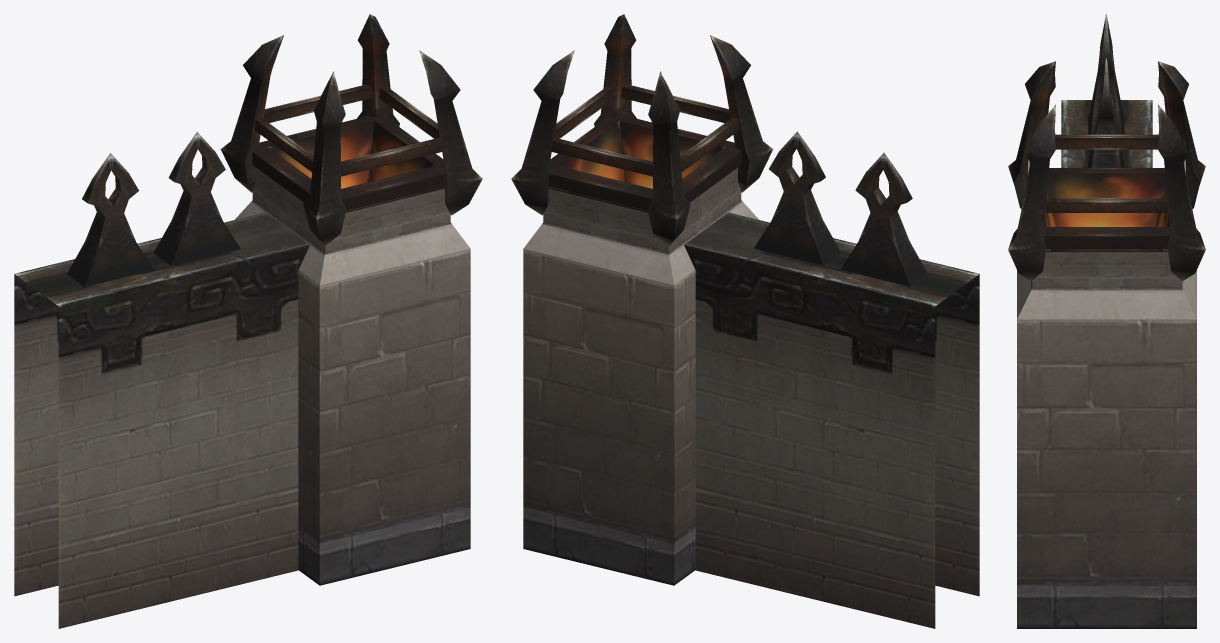
The model's file is zc_zhanchang001_huopenweilan01_55_58_7948out.fbx.
3 views of the same model, side by side, from view 1: azimuth 30°, elevation 25°; view 2: azimuth 150°, elevation 25°; view 3: azimuth 270°, elevation 25° (orthographic). The views are drawn at different scales.
Visible parts, largest first — view 1: zc_zhanchang001_huopenweilan01; view 2: zc_zhanchang001_huopenweilan01; view 3: zc_zhanchang001_huopenweilan01.
Part boxes in pixels (x1,y1,x2,y2): zc_zhanchang001_huopenweilan01: (14,14,482,628); zc_zhanchang001_huopenweilan01: (511,14,979,628); zc_zhanchang001_huopenweilan01: (1008,14,1205,628).
Bounding box in the file's own units: 4.11 × 4.87 × 1.71.
